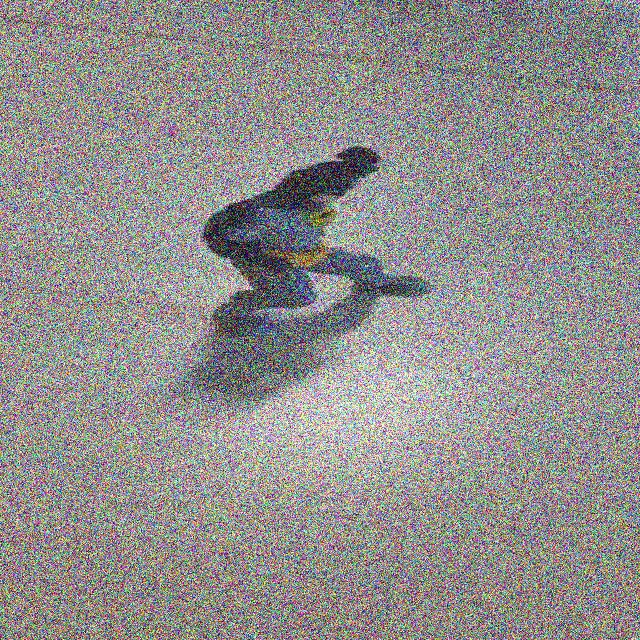Batman: (177, 131, 431, 341)
